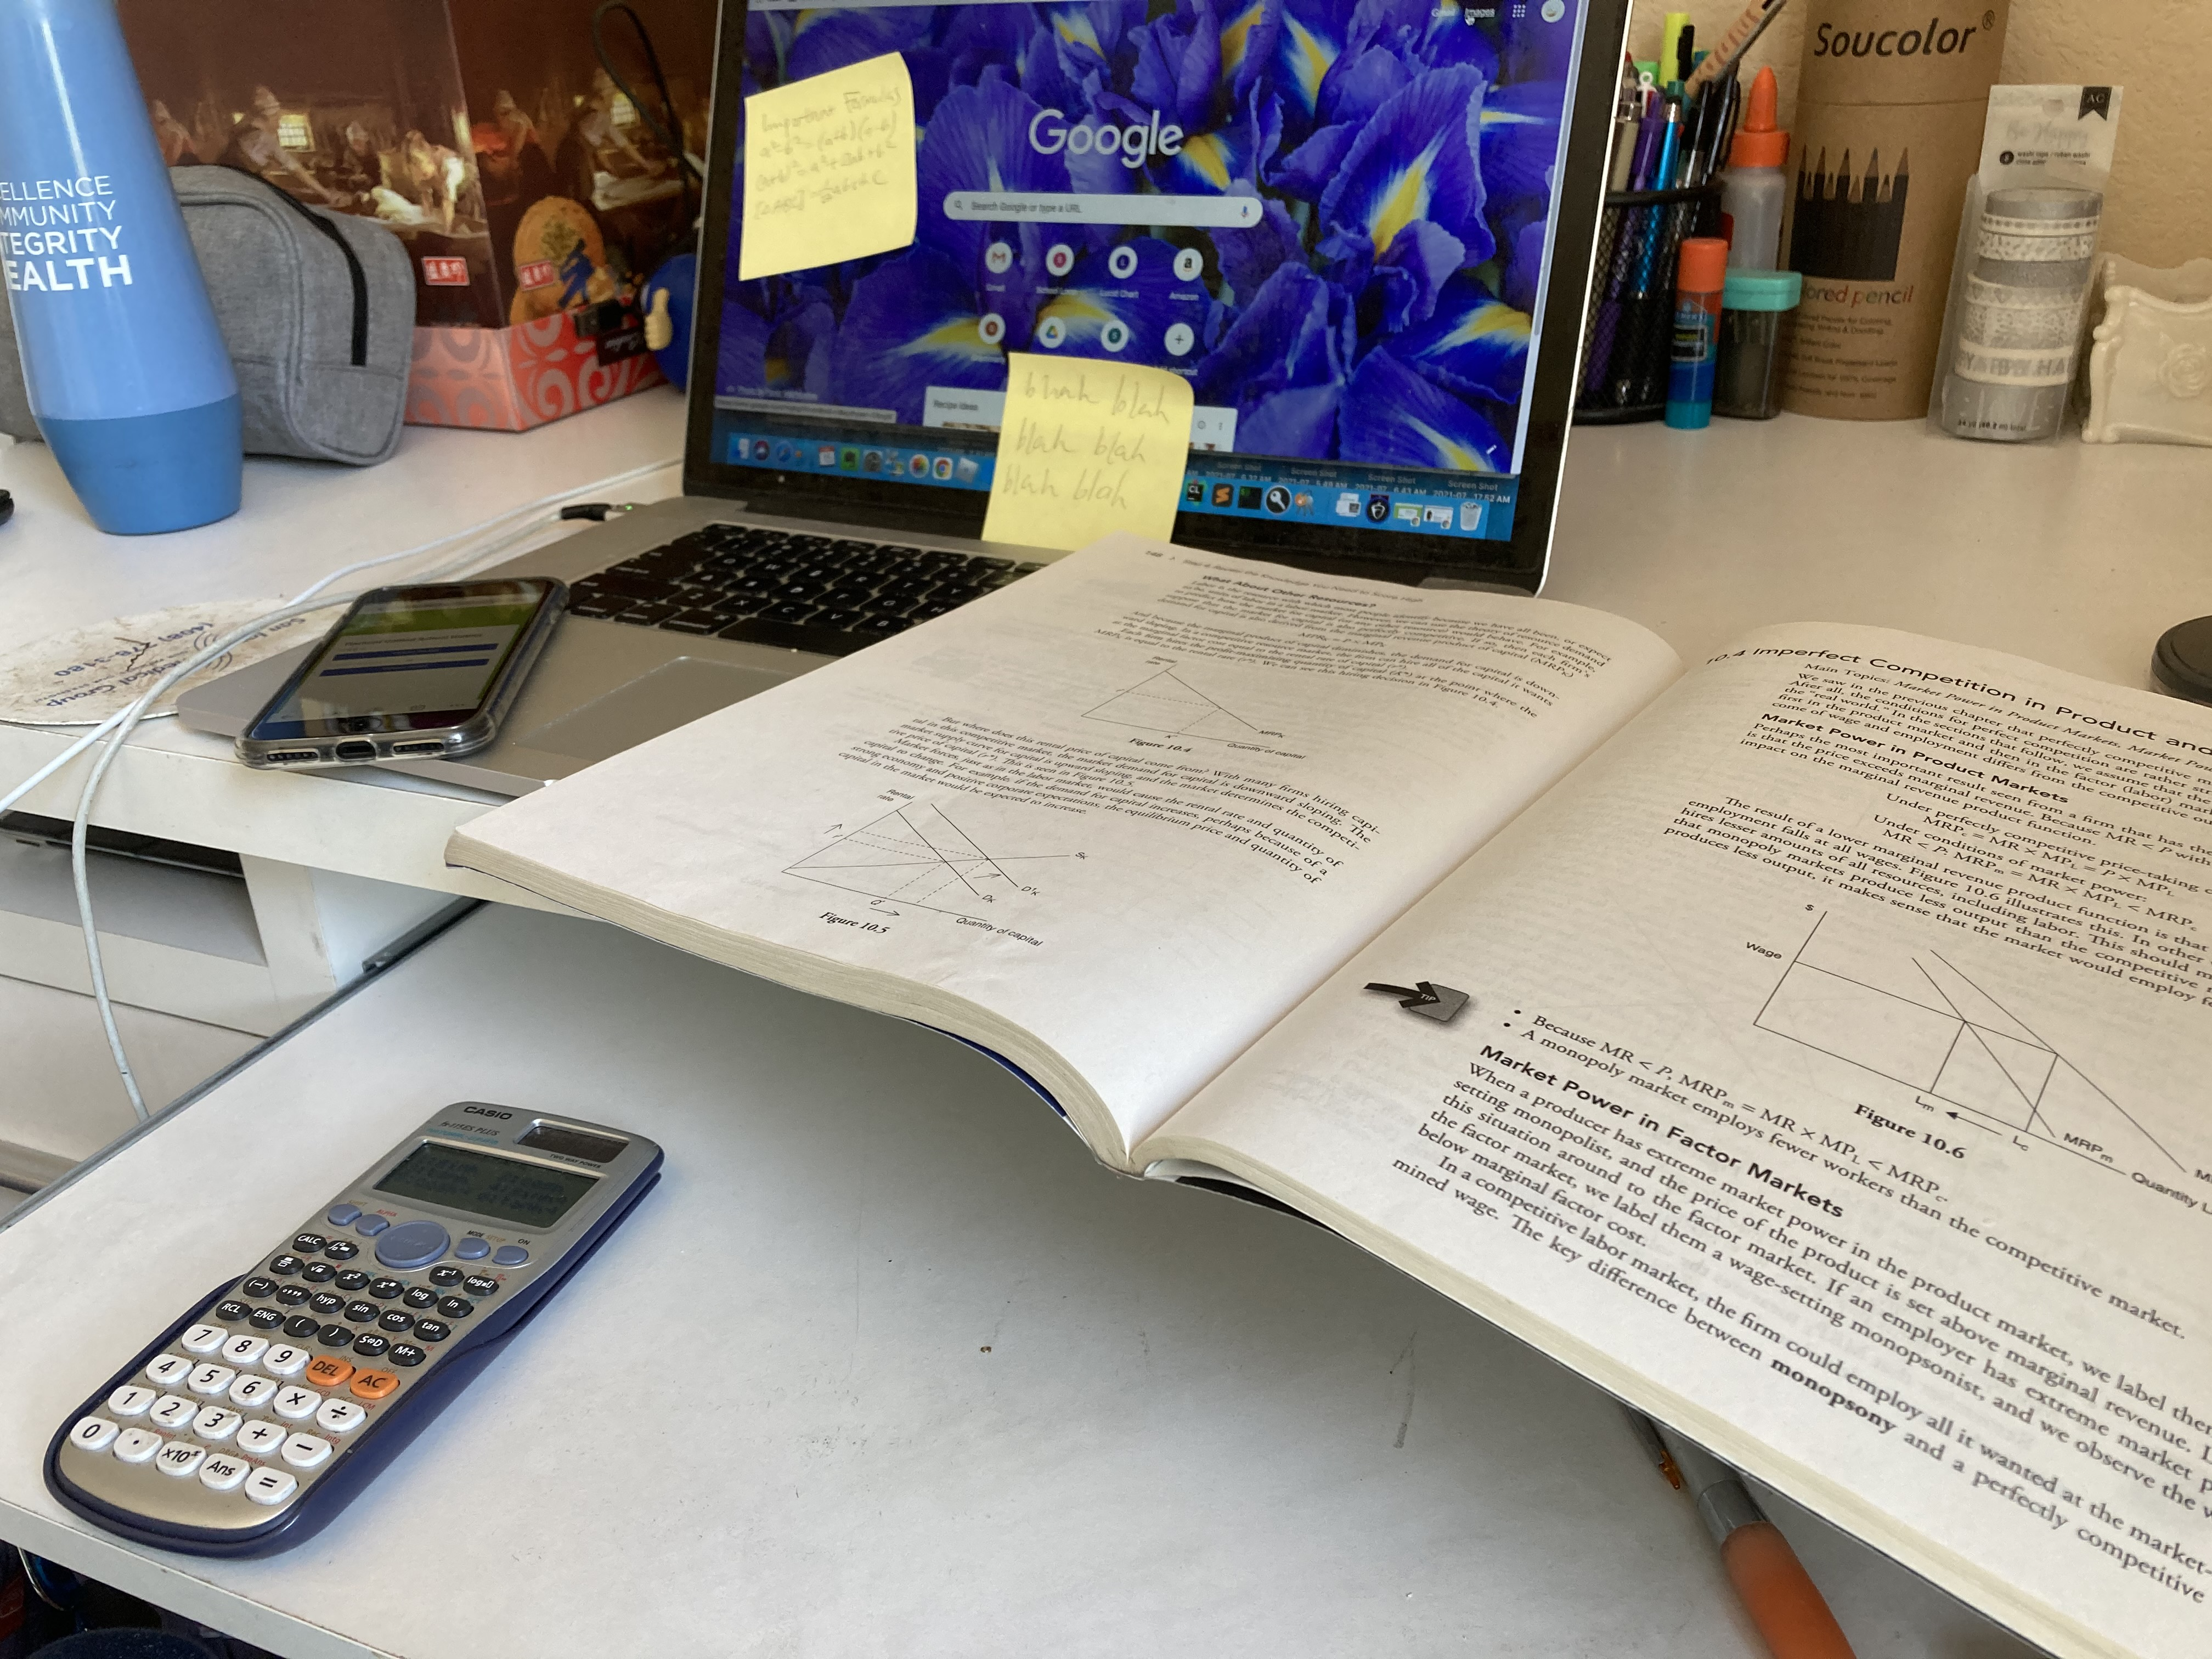Calculator: (42, 1101, 660, 1558)
Cell Phone: (253, 587, 568, 749)
Note: (974, 349, 1197, 547), (723, 59, 928, 265)
Open Book: (469, 554, 2212, 1659)
